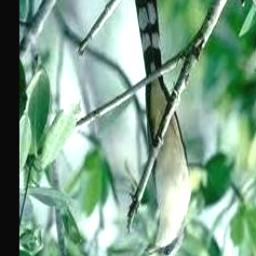Cuckoo: (133, 0, 190, 256)
